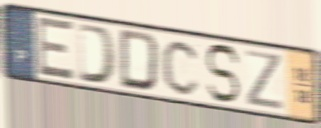C: (160, 38, 202, 98)
D: (118, 27, 162, 94), (76, 21, 119, 87)
E: (36, 14, 76, 83)
S: (203, 42, 242, 105)
Z: (244, 47, 287, 112)
